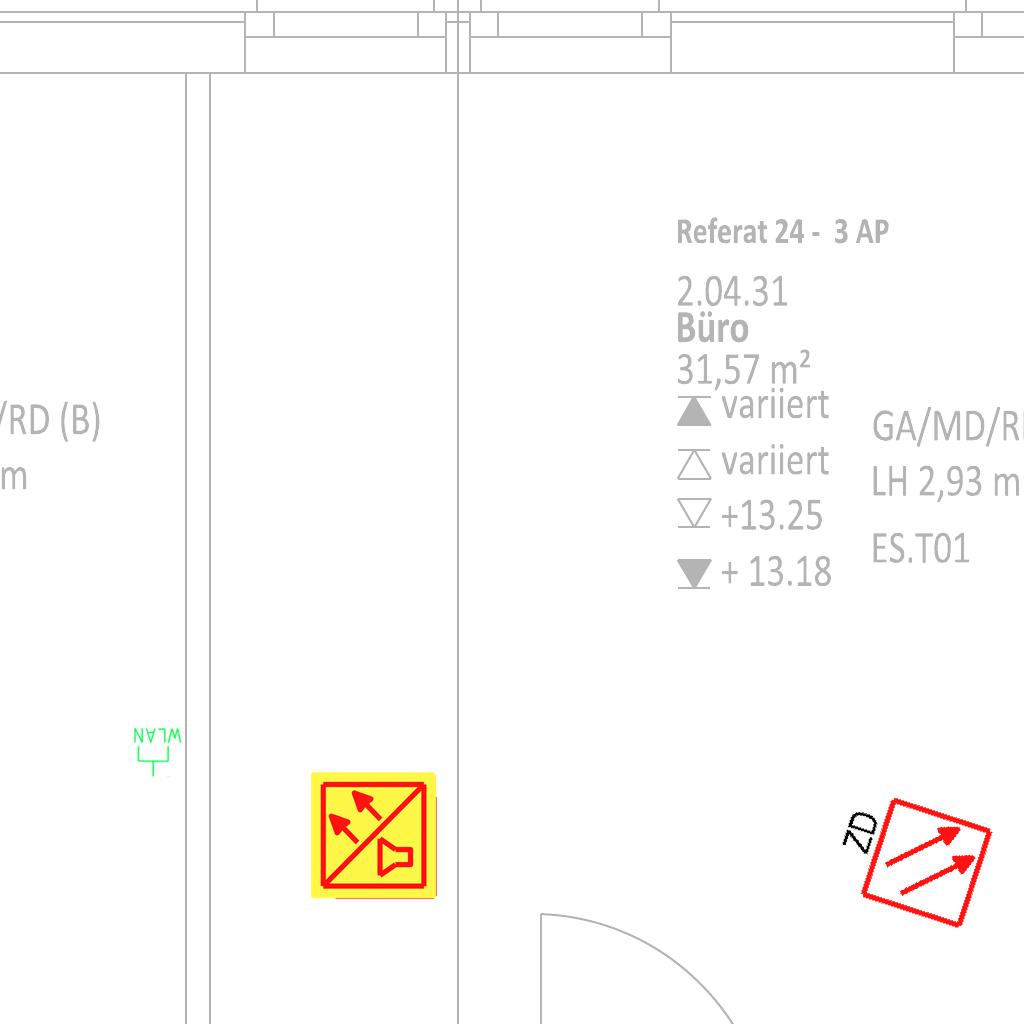OKW_Multisensormelder_(Kombination_optischer_Rauch-Kahlenmonoxid_Waerme-Melder): (308, 769, 440, 901)
WLAN: (132, 726, 184, 778)
ZD_Melder_in_Zwischendecke_mit_Revisionsoeffnung_mind_40_x_40_cm: (819, 781, 997, 936)
